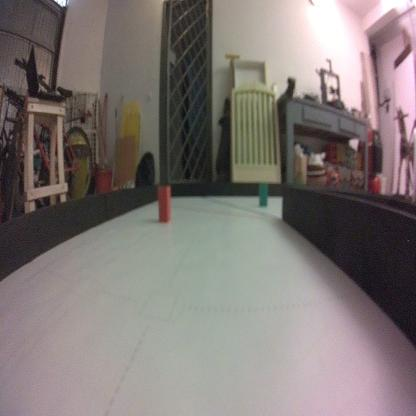green: (257, 179, 270, 207)
red: (156, 183, 172, 227)
